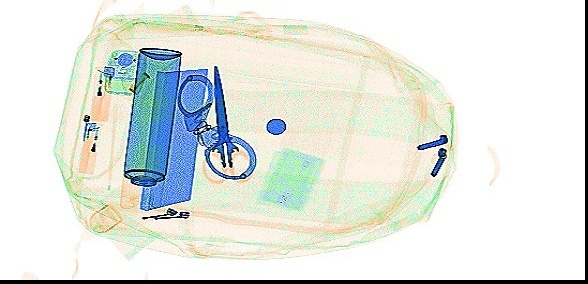handcuffs: (176, 72, 256, 179)
lighter: (88, 64, 116, 121), (76, 119, 100, 175)
pressure: (119, 45, 182, 212)
scissors: (201, 63, 252, 184)
